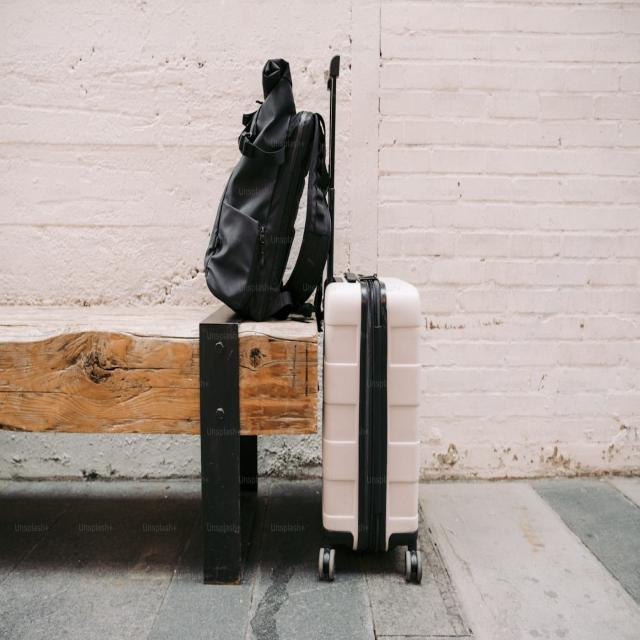backpack: (204, 58, 334, 324)
